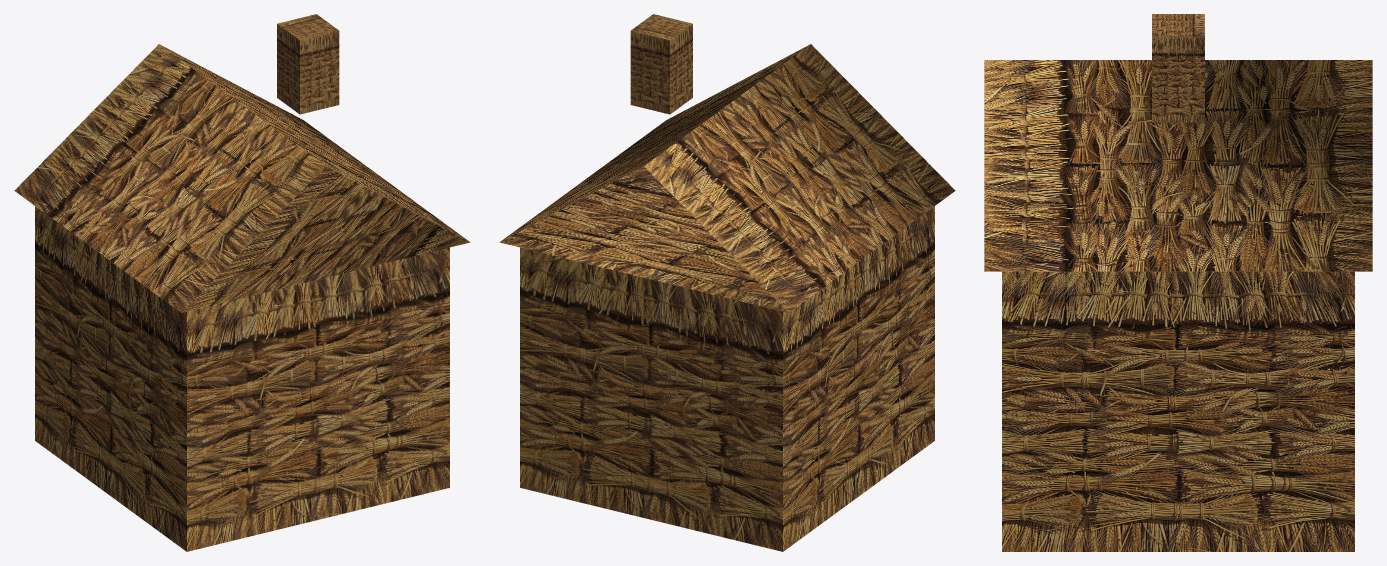
Rendered from mead_maker.obj.
The picture shows the model from 3 angles, left to right: view 1: azimuth 30°, elevation 25°; view 2: azimuth 150°, elevation 25°; view 3: azimuth 270°, elevation 25°; orthographic projection. The views are drawn at different scales.
Parts seen in each view (by area): view 1: building; view 2: building; view 3: building.
Boxes of the visible parts, <box> form: building: <box>14,14,470,551</box>; building: <box>499,14,955,551</box>; building: <box>984,14,1372,551</box>.
Size of the model in its own units: 2.2 by 3.06 by 2.2.
